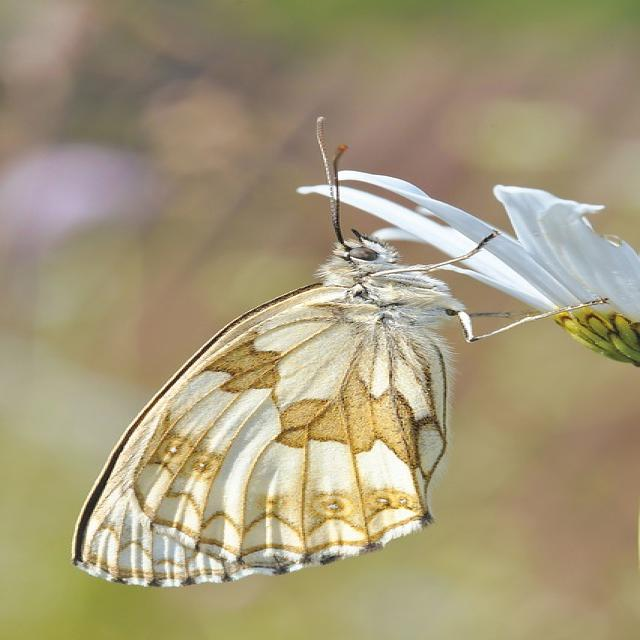butterfly: (73, 238, 462, 586)
